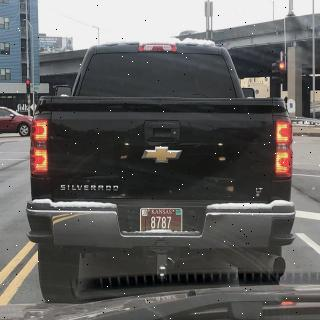license: (141, 209, 184, 233)
